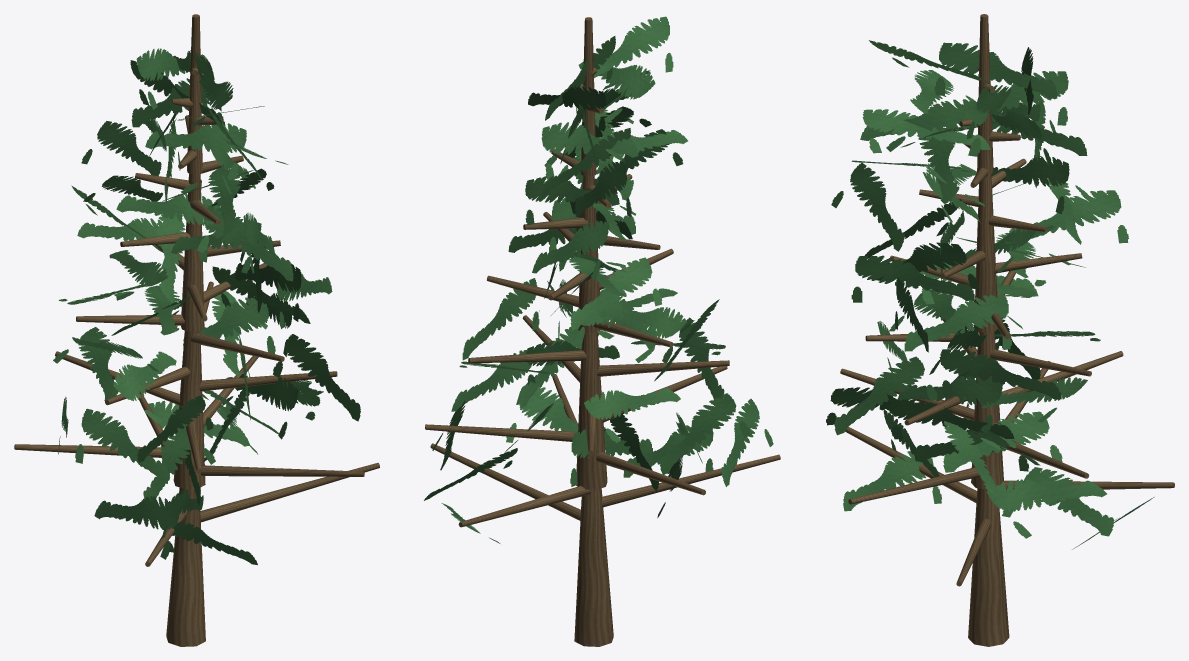
The picture shows the model from 3 angles, left to right: view 1: azimuth 30°, elevation 25°; view 2: azimuth 150°, elevation 25°; view 3: azimuth 270°, elevation 25°; orthographic projection.
Visible parts, largest first — view 1: pine-needle, pine-bark; view 2: pine-needle, pine-bark; view 3: pine-needle, pine-bark.
Boxes of the visible parts, x1=… form: pine-needle: x1=53, y1=48, x2=360, y2=565; pine-bark: x1=14, y1=14, x2=379, y2=646; pine-needle: x1=424, y1=16, x2=773, y2=543; pine-bark: x1=425, y1=17, x2=780, y2=646; pine-needle: x1=826, y1=40, x2=1154, y2=549; pine-bark: x1=840, y1=14, x2=1174, y2=646.
Size of the model in its own units: 5.51 by 10.01 by 5.3.
2 materials, 2 textured.
